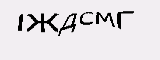В: (122, 19, 142, 50)
З: (62, 21, 78, 51)
К: (28, 12, 45, 43)
Ч: (43, 17, 62, 50)
Ш: (79, 17, 121, 51)
